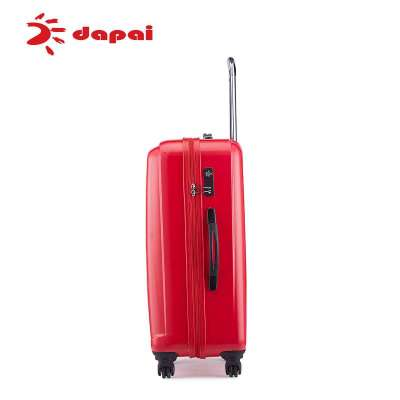luggage: (144, 55, 250, 381)
